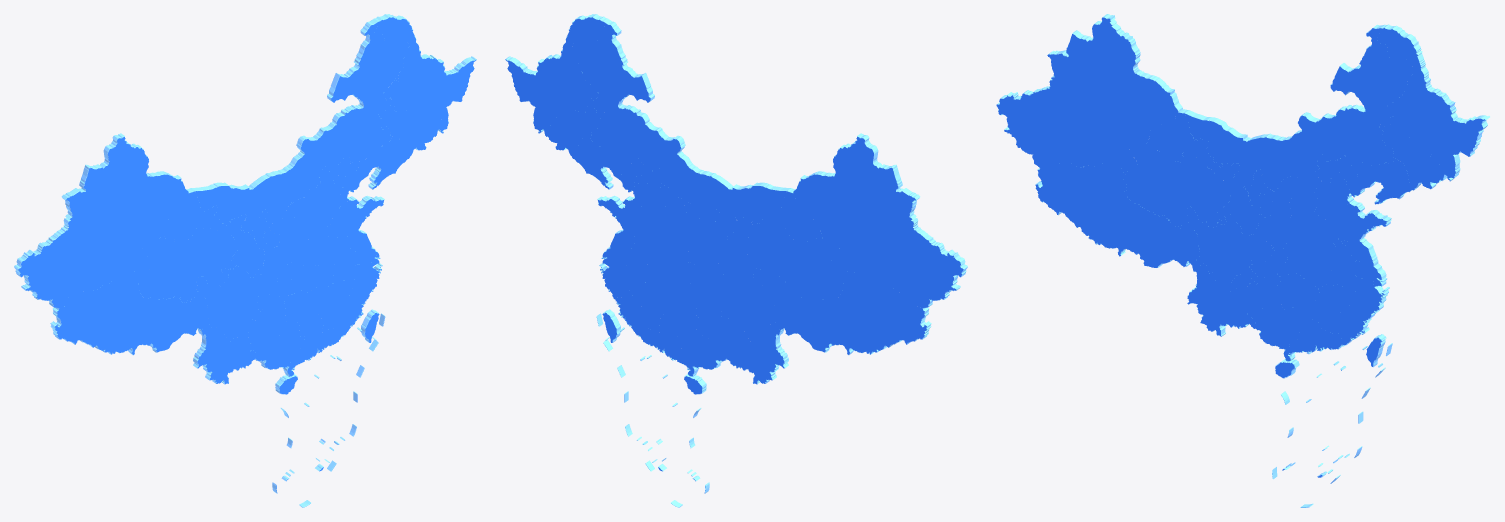
The model's file is china-map-draco.glb.
3 views of the same model, side by side, from view 1: azimuth 30°, elevation 25°; view 2: azimuth 150°, elevation 25°; view 3: azimuth 330°, elevation 25° (orthographic). The views are drawn at different scales.
Parts seen in each view (by area): view 1: china-map-export-group; view 2: china-map-export-group; view 3: china-map-export-group.
Part boxes in pixels (left/top/right/bottom): china-map-export-group: left=14, top=14, right=476, bottom=507; china-map-export-group: left=505, top=14, right=967, bottom=507; china-map-export-group: left=996, top=14, right=1489, bottom=507.
Size of the model in its own units: 86.12 by 84.27 by 1.4.
